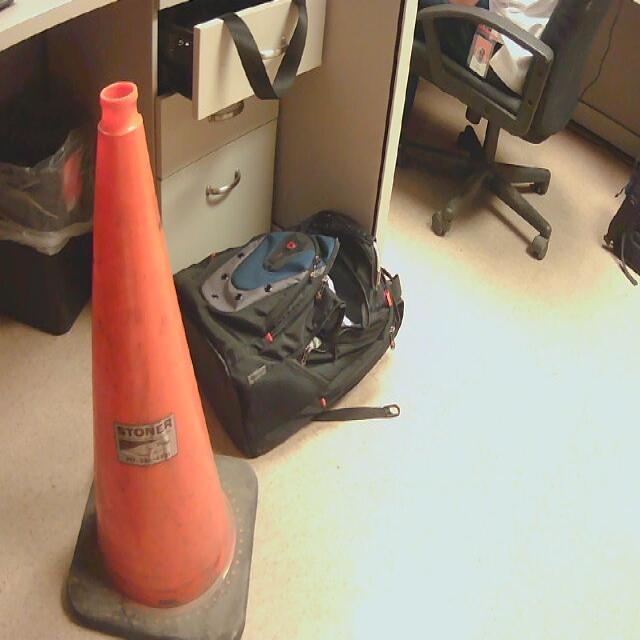traffic cone: (63, 84, 259, 640)
